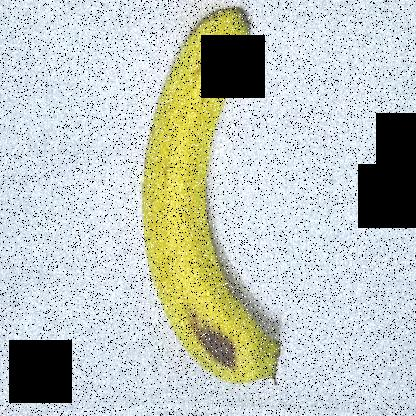freshripe: (127, 1, 294, 400)
